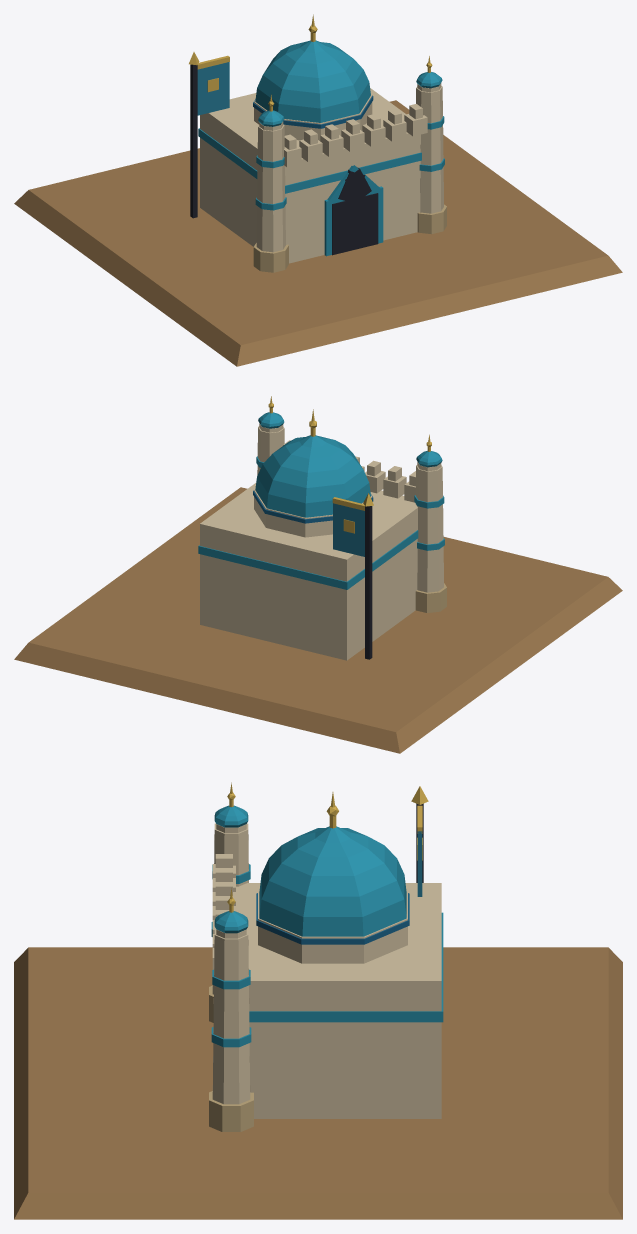
The model's file is castle_t1.glb.
3 views of the same model, one above another, from view 1: azimuth 30°, elevation 25°; view 2: azimuth 150°, elevation 25°; view 3: azimuth 270°, elevation 25° (orthographic). The views are drawn at different scales.
Parts seen in each view (by area): view 1: body; view 2: body; view 3: body.
Part boxes in pixels (<box>): body: <box>14,14,622,366</box>; body: <box>14,396,622,753</box>; body: <box>14,782,622,1219</box>.
Bounding box in the file's own units: 4.2 × 2.29 × 4.2.
